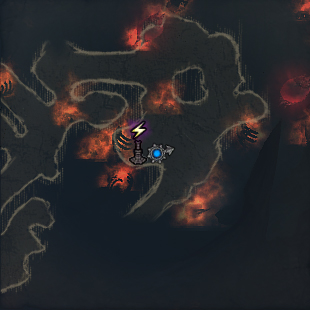ConduitPylon: (130, 119, 148, 162)
